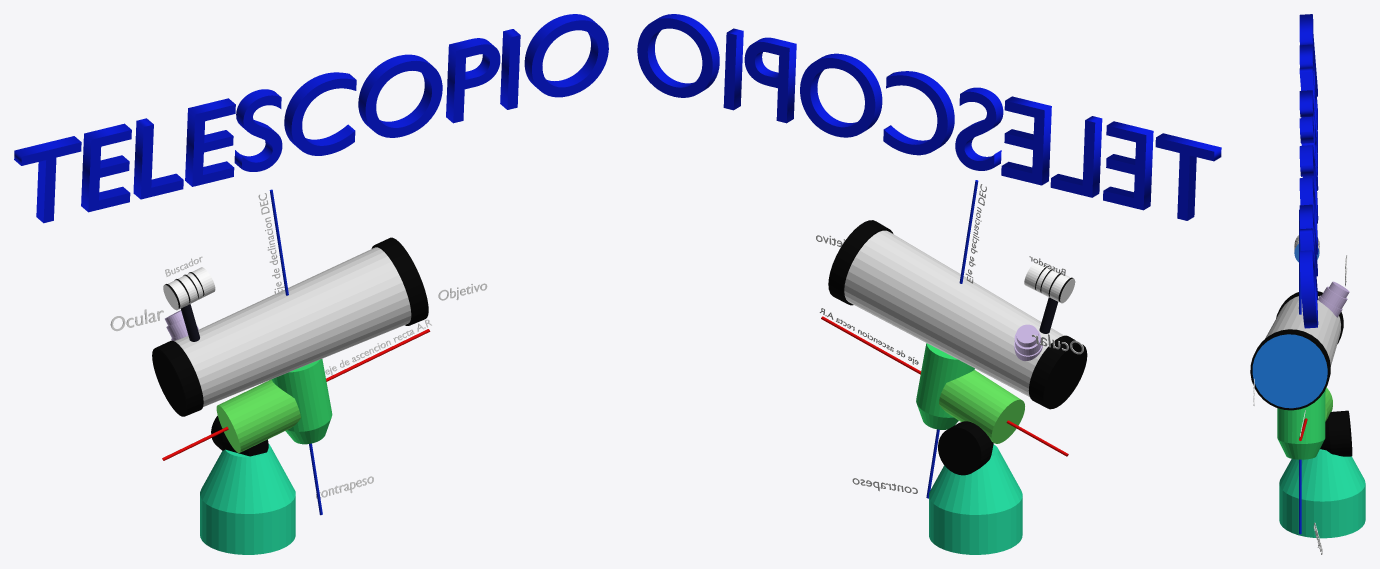
File: telescopio.glb
The picture shows the model from 3 angles, left to right: view 1: azimuth 30°, elevation 25°; view 2: azimuth 150°, elevation 25°; view 3: azimuth 270°, elevation 25°; orthographic projection. The views are drawn at different scales.
Visible parts, largest first — view 1: Texto.006, Cilindro, Cilindro.001, Cilindro.003, Cilindro.004, Cilindro.007, Cilindro.009; view 2: Texto.006, Cilindro, Cilindro.001, Cilindro.003, Cilindro.004, Cilindro.002, Cilindro.007, Cilindro.005, Cilindro.009; view 3: Cilindro, Cilindro.001, Texto.006, Cilindro.004, Cilindro.002, Cilindro.005, Cilindro.008, Cilindro.003.
Part boxes in pixels (x1=…): Texto.006: x1=14, y1=14, x2=608, y2=223; Cilindro: x1=152, y1=237, x2=428, y2=416; Cilindro.001: x1=200, y1=444, x2=295, y2=554; Cilindro.003: x1=216, y1=379, x2=300, y2=452; Cilindro.004: x1=271, y1=359, x2=332, y2=444; Cilindro.007: x1=163, y1=267, x2=215, y2=310; Cilindro.009: x1=162, y1=329, x2=430, y2=460; Texto.006: x1=637, y1=14, x2=1221, y2=220; Cilindro: x1=828, y1=220, x2=1087, y2=409; Cilindro.001: x1=929, y1=444, x2=1022, y2=554; Cilindro.003: x1=939, y1=370, x2=1024, y2=443; Cilindro.004: x1=916, y1=343, x2=974, y2=429; Cilindro.002: x1=938, y1=421, x2=993, y2=475; Cilindro.007: x1=1024, y1=261, x2=1075, y2=303; Cilindro.005: x1=1014, y1=324, x2=1042, y2=360; Cilindro.009: x1=821, y1=316, x2=1068, y2=456; Cilindro: x1=1250, y1=291, x2=1343, y2=410; Cilindro.001: x1=1279, y1=449, x2=1365, y2=538; Texto.006: x1=1299, y1=14, x2=1318, y2=328; Cilindro.004: x1=1277, y1=389, x2=1325, y2=459; Cilindro.002: x1=1320, y1=410, x2=1352, y2=456; Cilindro.005: x1=1318, y1=281, x2=1349, y2=317; Cilindro.008: x1=1299, y1=209, x2=1301, y2=534; Cilindro.003: x1=1325, y1=387, x2=1332, y2=421.
Bounding box in the file's own units: 5.6 × 4.07 × 1.06.
